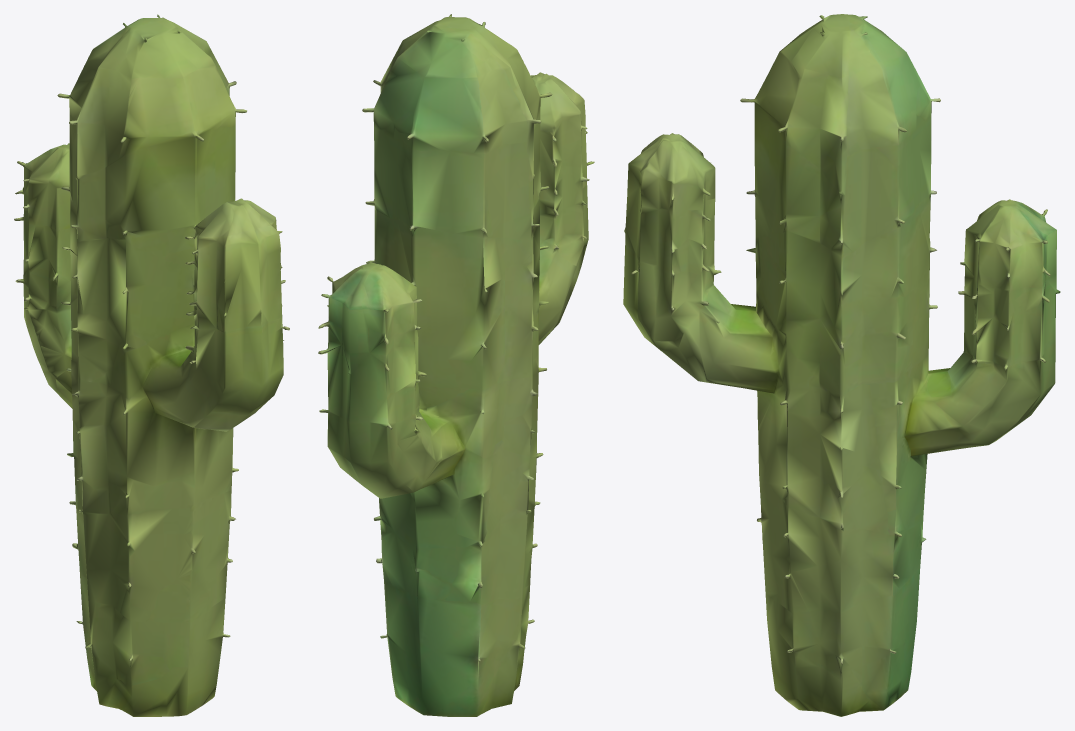
The model's file is cactus.glb.
3 views of the same model, side by side, from view 1: azimuth 30°, elevation 25°; view 2: azimuth 150°, elevation 25°; view 3: azimuth 270°, elevation 25° (orthographic).
Visible parts, largest first — view 1: tripo_node_b0d7cd1a-4943-4a47-9da6-7d680701913a; view 2: tripo_node_b0d7cd1a-4943-4a47-9da6-7d680701913a; view 3: tripo_node_b0d7cd1a-4943-4a47-9da6-7d680701913a.
Boxes of the visible parts, bbox=[...] form: tripo_node_b0d7cd1a-4943-4a47-9da6-7d680701913a: bbox=[14, 14, 289, 716]; tripo_node_b0d7cd1a-4943-4a47-9da6-7d680701913a: bbox=[318, 14, 594, 716]; tripo_node_b0d7cd1a-4943-4a47-9da6-7d680701913a: bbox=[623, 14, 1060, 716].
Size of the model in its own units: 0.2631 by 0.9999 by 0.593.
Materials: 1 (1 with a texture image).
